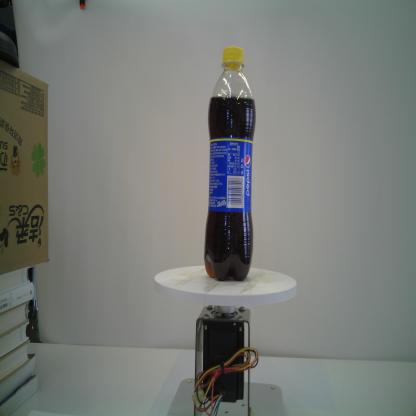Drink: (202, 44, 256, 283)
